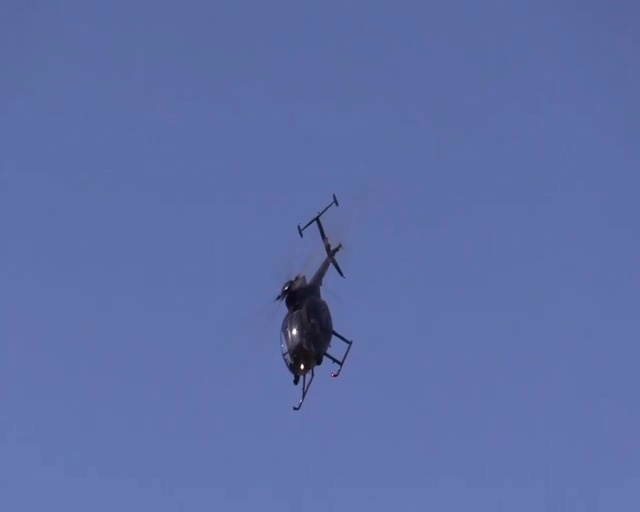HELICOPTER: (243, 192, 355, 414)
